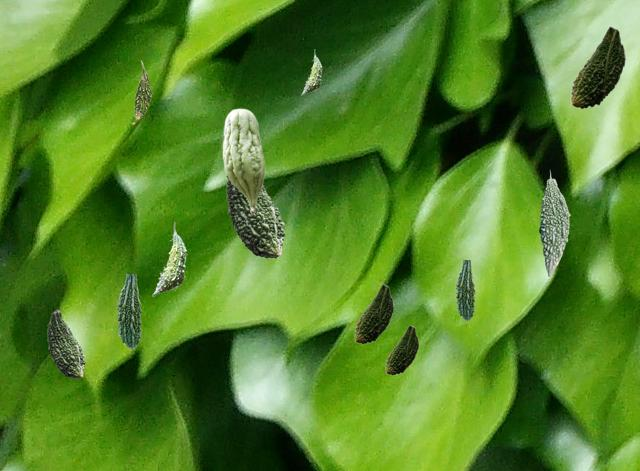ampalaya: (226, 175, 284, 257), (570, 26, 625, 108), (222, 108, 264, 214), (539, 169, 569, 275), (47, 309, 84, 377), (152, 222, 186, 295), (354, 284, 393, 343), (116, 274, 141, 347), (385, 325, 418, 374), (131, 60, 151, 123), (455, 260, 474, 319), (301, 49, 321, 94)
